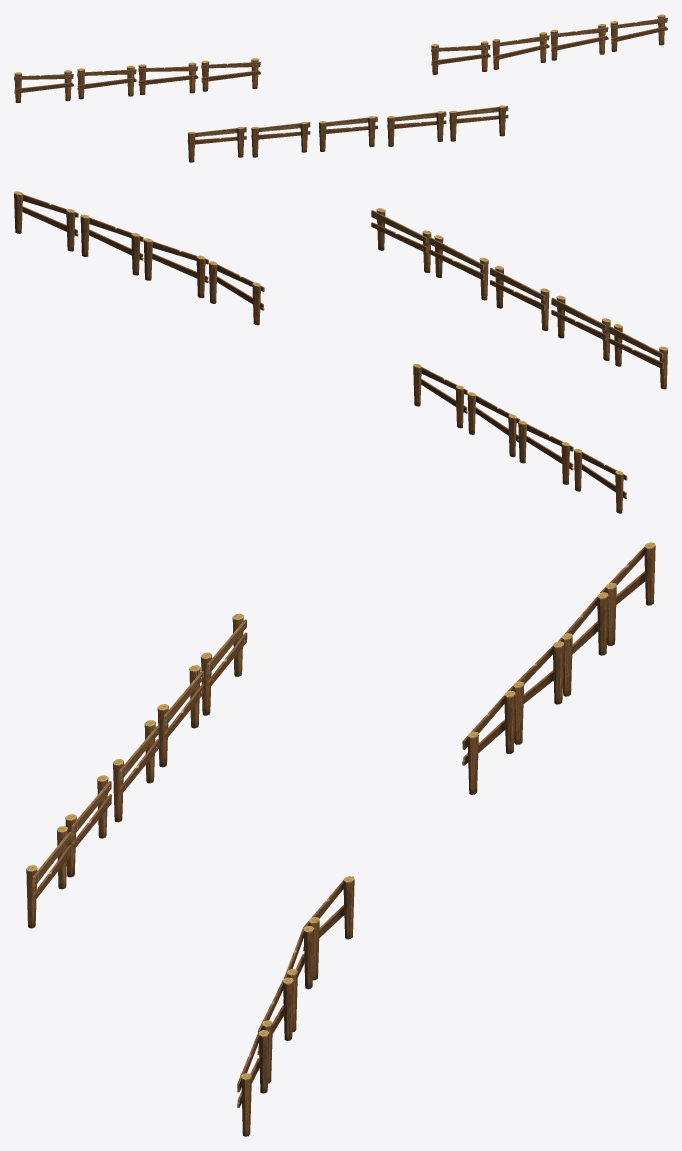
File: Area_12_48.fbx
The picture shows the model from 3 angles, top to bottom: view 1: azimuth 30°, elevation 25°; view 2: azimuth 150°, elevation 25°; view 3: azimuth 270°, elevation 25°; orthographic projection. The views are drawn at different scales.
Visible parts, largest first — view 1: Area_12_48; view 2: Area_12_48; view 3: Area_12_48.
Boxes of the visible parts, <box> form: Area_12_48: <box>14,14,667,162</box>; Area_12_48: <box>14,191,667,513</box>; Area_12_48: <box>26,542,655,1136</box>.
Size of the model in its own units: 2762 by 145 by 1364.
